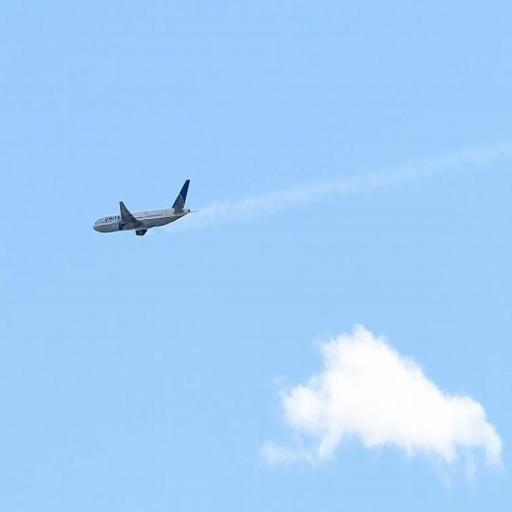aircraft: (92, 179, 191, 236)
